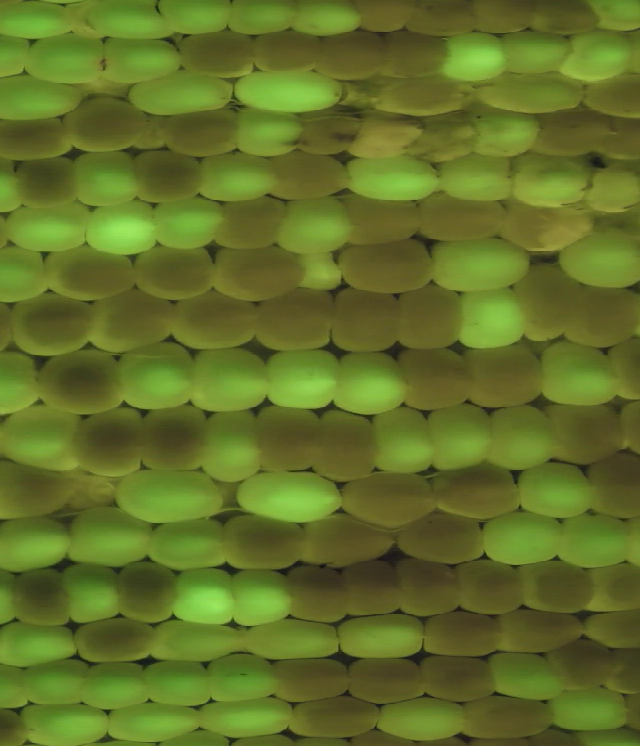fluorescent: (424, 228, 534, 298), (112, 465, 230, 529), (532, 333, 627, 410), (112, 339, 199, 416), (0, 400, 88, 475), (185, 342, 274, 416), (225, 64, 346, 118), (233, 469, 345, 525), (269, 189, 360, 257), (259, 346, 347, 415), (332, 346, 415, 419), (340, 149, 450, 204), (62, 505, 159, 567), (471, 68, 588, 119), (478, 508, 574, 570), (511, 457, 602, 522), (196, 403, 267, 486), (124, 68, 238, 119), (0, 197, 95, 257), (367, 402, 441, 479), (328, 609, 433, 663), (509, 148, 600, 209), (424, 400, 499, 474), (16, 31, 113, 88), (555, 230, 640, 295), (239, 615, 346, 666), (454, 285, 533, 354), (483, 401, 563, 469), (95, 31, 187, 90), (0, 513, 81, 579), (146, 187, 229, 251), (372, 693, 476, 744), (191, 146, 280, 205), (552, 27, 638, 87), (141, 517, 233, 573), (483, 644, 567, 705), (0, 514, 80, 578), (555, 509, 636, 572), (165, 562, 242, 628), (82, 191, 158, 257), (0, 71, 91, 126), (68, 146, 145, 211), (102, 700, 210, 746), (145, 616, 244, 666), (16, 699, 120, 746), (541, 683, 635, 735), (437, 149, 522, 206), (202, 648, 288, 704), (57, 558, 125, 628), (464, 105, 548, 161), (191, 694, 300, 737), (233, 101, 305, 163), (0, 617, 81, 672), (225, 567, 298, 628), (137, 656, 216, 712), (75, 657, 152, 714), (75, 1, 177, 44), (436, 29, 511, 86), (17, 655, 96, 709), (498, 28, 579, 75), (583, 160, 640, 220), (0, 242, 56, 301), (0, 1, 75, 44), (284, 1, 368, 39), (152, 1, 234, 39), (0, 349, 44, 416), (221, 1, 300, 38), (289, 247, 351, 292), (0, 148, 31, 220), (0, 30, 37, 85), (0, 660, 37, 713), (585, 1, 640, 36)
nonfluorescent: (27, 346, 133, 418), (332, 468, 447, 533), (165, 286, 268, 356), (85, 285, 184, 356), (204, 239, 311, 304), (249, 397, 334, 478), (541, 397, 634, 471), (389, 342, 479, 418), (423, 461, 529, 525), (332, 238, 443, 299), (7, 289, 101, 361), (511, 260, 587, 349), (296, 511, 401, 575), (308, 404, 387, 488), (40, 243, 146, 304), (249, 284, 340, 355), (458, 341, 550, 411), (493, 198, 597, 259), (391, 509, 494, 570), (70, 404, 148, 482), (213, 512, 312, 573), (126, 244, 222, 306), (263, 146, 360, 207), (336, 190, 433, 251), (132, 403, 215, 474), (62, 92, 154, 156), (411, 191, 516, 246), (366, 72, 479, 123), (0, 453, 80, 525), (391, 282, 469, 355), (512, 556, 605, 617), (325, 283, 405, 353), (65, 612, 165, 668), (204, 194, 294, 256), (112, 557, 186, 632), (560, 283, 640, 352), (486, 604, 591, 656), (453, 693, 564, 742), (387, 556, 468, 623), (542, 631, 623, 697), (266, 653, 363, 708), (4, 564, 82, 631), (340, 109, 431, 166), (280, 560, 354, 630), (455, 555, 530, 624), (413, 649, 502, 707), (284, 693, 389, 741), (403, 109, 485, 170), (528, 107, 622, 160), (418, 608, 511, 661), (132, 144, 210, 207), (158, 105, 247, 160), (335, 557, 409, 621), (340, 655, 429, 708), (173, 28, 260, 81), (577, 448, 640, 521), (309, 29, 390, 85), (377, 24, 453, 83), (11, 153, 84, 211), (288, 109, 371, 160), (248, 27, 330, 78), (0, 114, 78, 165), (577, 70, 640, 125), (577, 560, 640, 615), (404, 1, 484, 42), (522, 1, 605, 39), (462, 1, 540, 39), (582, 603, 640, 654), (603, 336, 640, 401), (594, 115, 640, 164), (350, 1, 414, 36), (600, 643, 640, 698), (0, 701, 37, 746)
